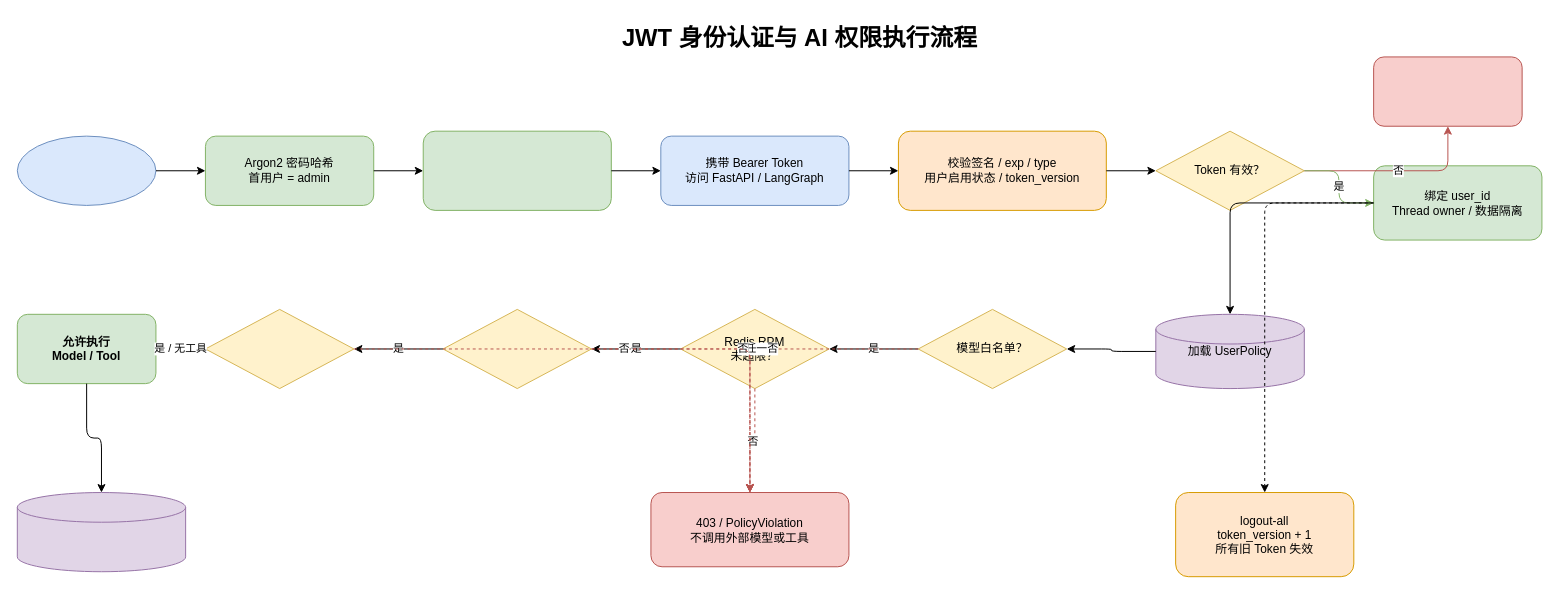
The diagram is 1559 pixels wide and 594 high, and some of its shapes have lost their labels. Each missing label, with the centre of its shape:
"401 重新登录或刷新" belongs at point (1447, 91).
"Token 配额 仍可用？" belongs at point (517, 348).
"工具权限？ 图片 / 高成本" belongs at point (279, 348).
"注册 / 登录" belongs at point (86, 170).
"签发 JWT Access + Refresh + token_version" belongs at point (516, 170).
"记录 Trace 与 Token 更新月度用量" belongs at point (101, 532).
